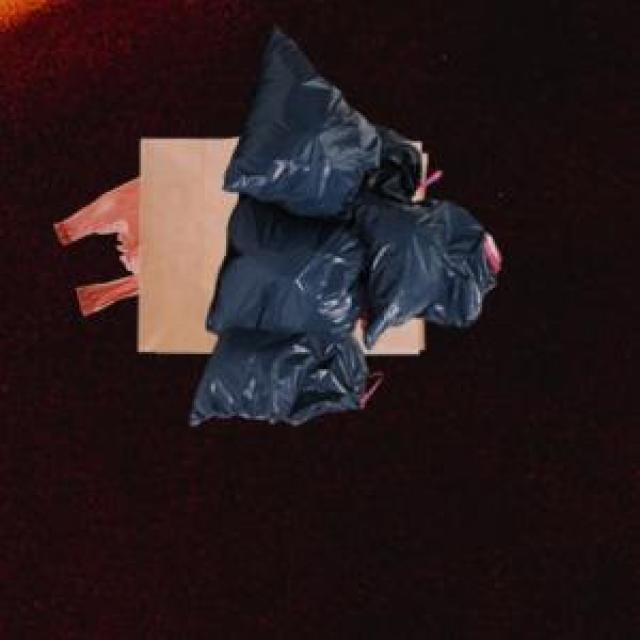miscellaneous trash: (186, 21, 495, 422)
paper: (134, 134, 422, 350)
